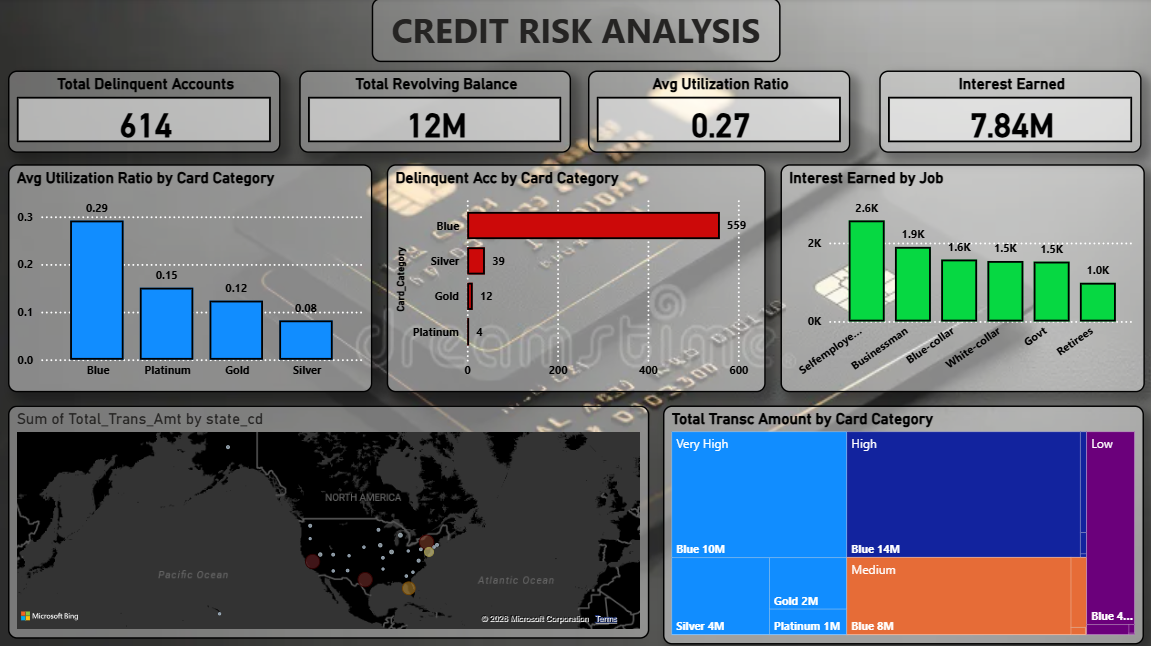

The page's visual inventory and layout, read from the dashboard file:
{"tool":"powerbi","page":{"name":"Credit Risk Analysis","canvas":[1280,720],"ordinal":2},"visuals":[{"type":"textbox","box":[416,0,449,70],"z":0},{"type":"cardVisual","title":"Total Delinquent Accounts","fields":{"Data":["Sum(credit_card (2).Delinquent_Acc)"]},"box":[16,80,299,90],"z":1000},{"type":"cardVisual","title":"Total Revolving Balance","fields":{"Data":["Sum(credit_card (2).Total_Revolving_Bal)"]},"box":[336,80,298,90],"z":2000},{"type":"cardVisual","title":"Avg Utilization Ratio","fields":{"Data":["Avg(credit_card (2).Avg_Utilization_Ratio)"]},"box":[653,80,288,90],"z":3000},{"type":"columnChart","title":"Avg Utilization Ratio by Card Category","fields":{"Category":["credit_card (2).Card_Category"],"Y":["Avg(credit_card (2).Avg_Utilization_Ratio)"]},"box":[16,183,400,250],"z":4000},{"type":"barChart","title":"Delinquent Acc by Card Category","fields":{"Category":["credit_card (2).Card_Category"],"Y":["Sum(credit_card (2).Delinquent_Acc)"]},"box":[432,183,416,250],"z":5000},{"type":"clusteredColumnChart","title":"Interest Earned by Job","fields":{"Category":["customer.Customer_Job"],"Y":["CountNonNull(credit_card (2).Interest_Earned)"]},"box":[864,183,400,250],"z":6000},{"type":"treemap","title":"Total Transc Amount  by Card Category","fields":{"Group":["customer.Income Group"],"Values":["Sum(credit_card (2).Total_Trans_Amt)"],"Details":["credit_card (2).Card_Category"]},"box":[736,448,528,262],"z":8000},{"type":"cardVisual","title":"Interest Earned","fields":{"Data":["Sum(credit_card (2).Interest_Earned)"]},"box":[973,80,288,90],"z":9000},{"type":"map","fields":{"Category":["customer.state_cd"],"Size":["Sum(credit_card (2).Total_Trans_Amt)"]},"box":[16,448,704,256],"z":9001}]}

Visuals, with their boxes in screenshot pixels (x1, y1, x2, y2), scaled from the page's 1280x720 canvas onto the 1151x646 screenshot:
textbox: <region>374, 0, 778, 63</region>
"Total Delinquent Accounts" cardVisual: <region>14, 72, 283, 153</region>
"Total Revolving Balance" cardVisual: <region>302, 72, 570, 153</region>
"Avg Utilization Ratio" cardVisual: <region>587, 72, 846, 153</region>
"Avg Utilization Ratio by Card Category" columnChart: <region>14, 164, 374, 388</region>
"Delinquent Acc by Card Category" barChart: <region>388, 164, 763, 388</region>
"Interest Earned by Job" clusteredColumnChart: <region>777, 164, 1137, 388</region>
"Total Transc Amount  by Card Category" treemap: <region>662, 402, 1137, 637</region>
"Interest Earned" cardVisual: <region>875, 72, 1134, 153</region>
map - customer.state_cd x Sum(credit_card (2).Total_Trans_Amt): <region>14, 402, 647, 632</region>
